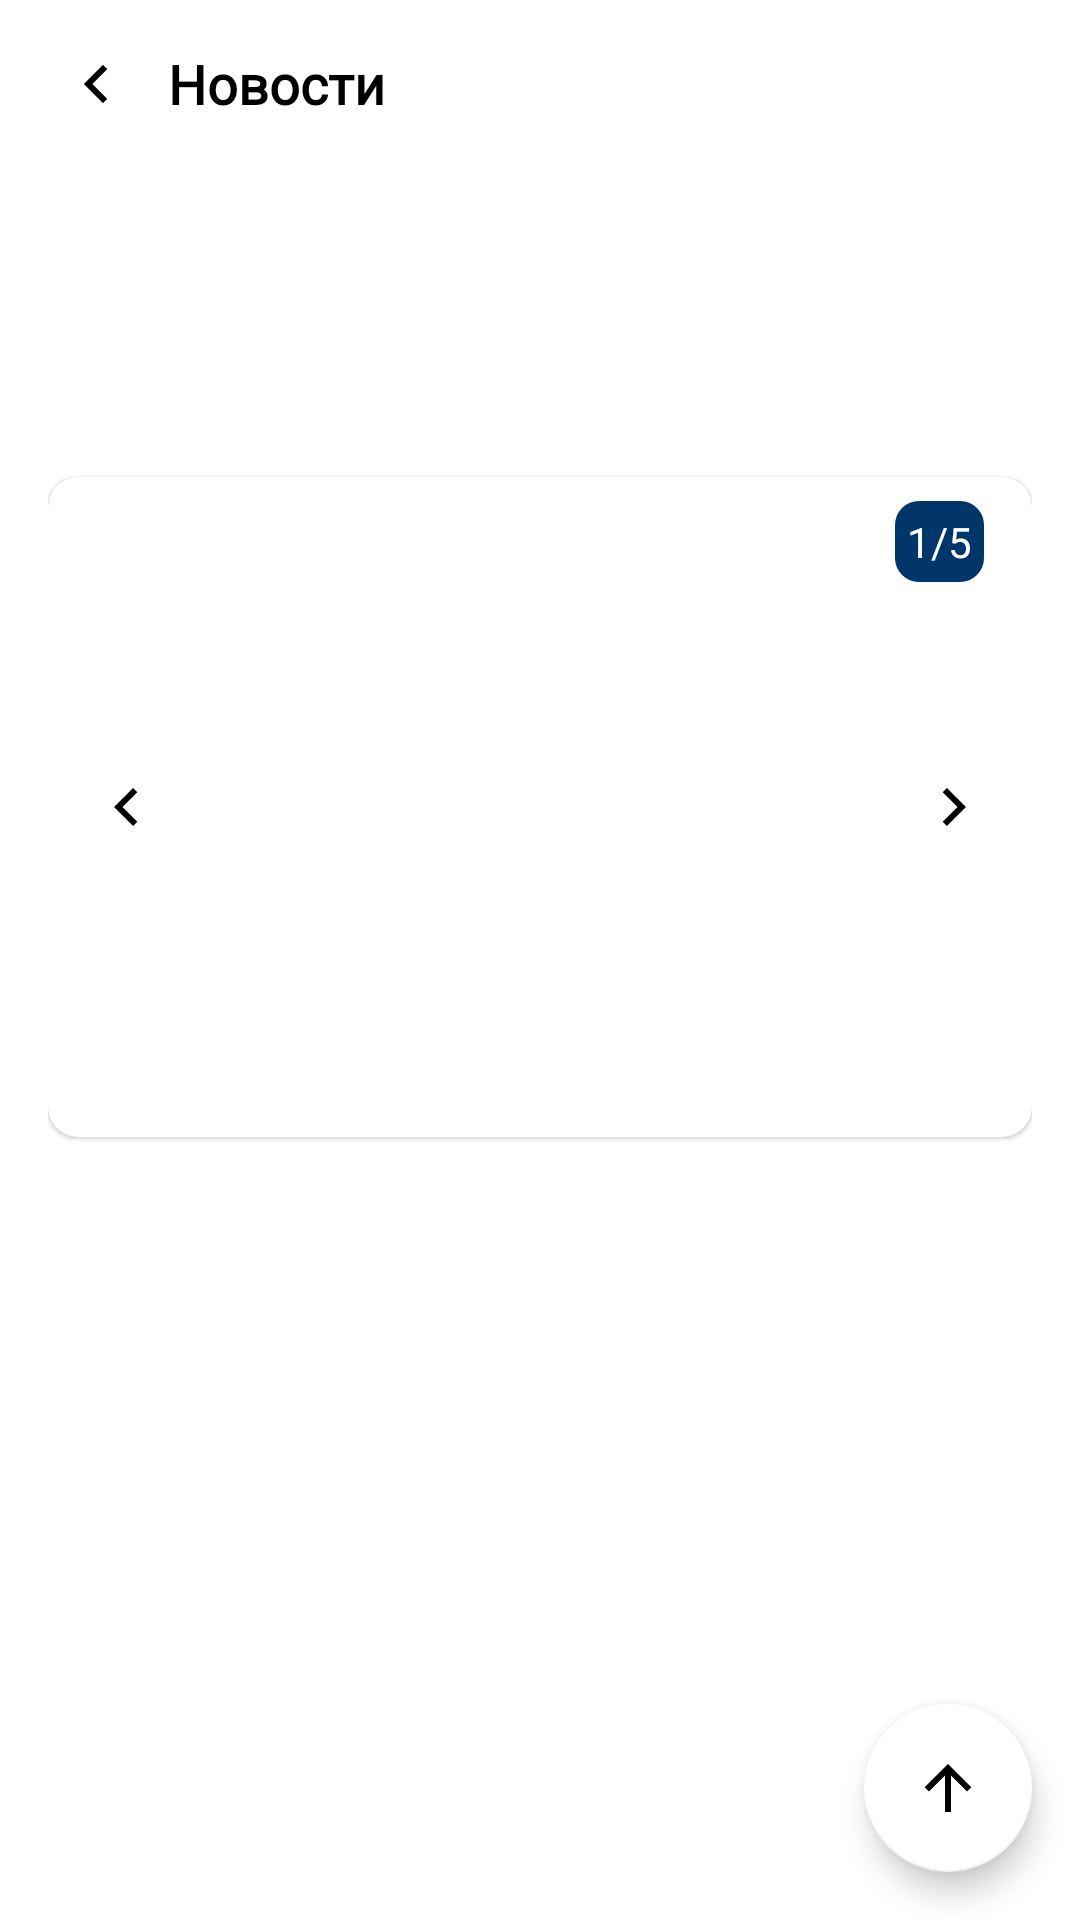

Icon click points for this 1080x1920 phone screenshot, format (x=x, y=y):
arrow left: (x=95, y=84)
arrow up: (x=950, y=1818)
